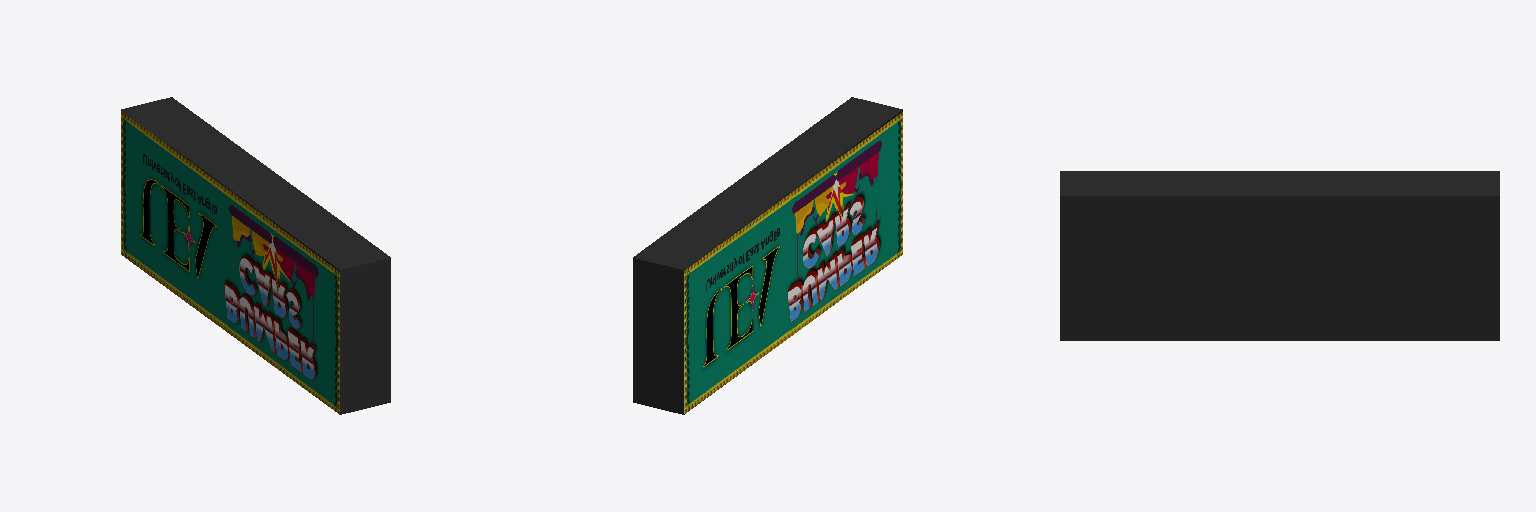
The picture shows the model from 3 angles: view 1: azimuth 30°, elevation 25°; view 2: azimuth 150°, elevation 25°; view 3: azimuth 270°, elevation 25°; orthographic projection.
Parts seen in each view (by area): view 1: Cube; view 2: Cube; view 3: Cube.
Boxes of the visible parts, <box> form: Cube: <box>121,97,390,414</box>; Cube: <box>633,97,902,414</box>; Cube: <box>1060,171,1499,340</box>.
Bounding box in the file's own units: 2.09 × 5.64 × 15.5.
2 materials, 1 textured.